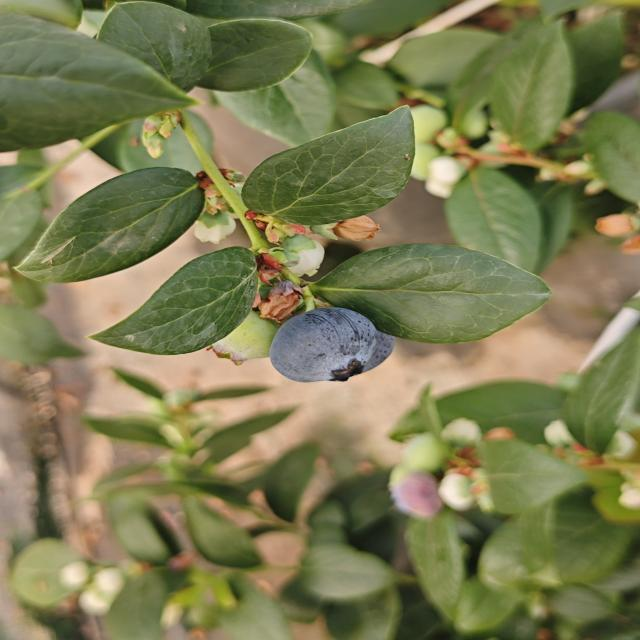ripe: (266, 298, 399, 388)
